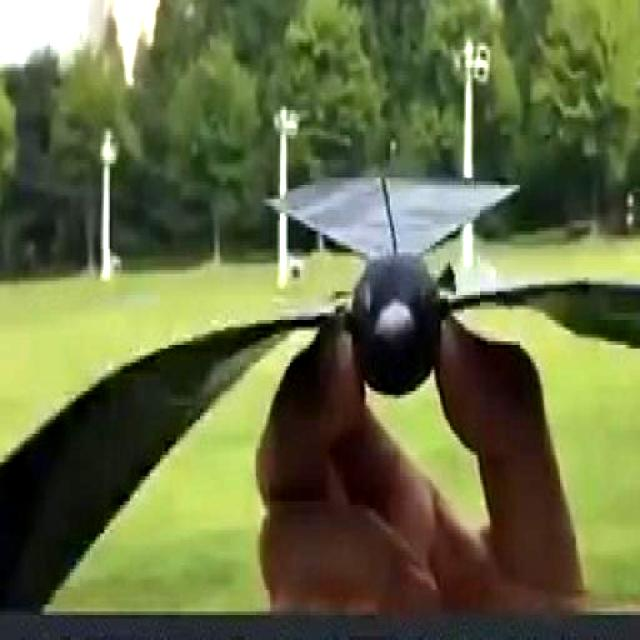airplane: (0, 164, 640, 585)
